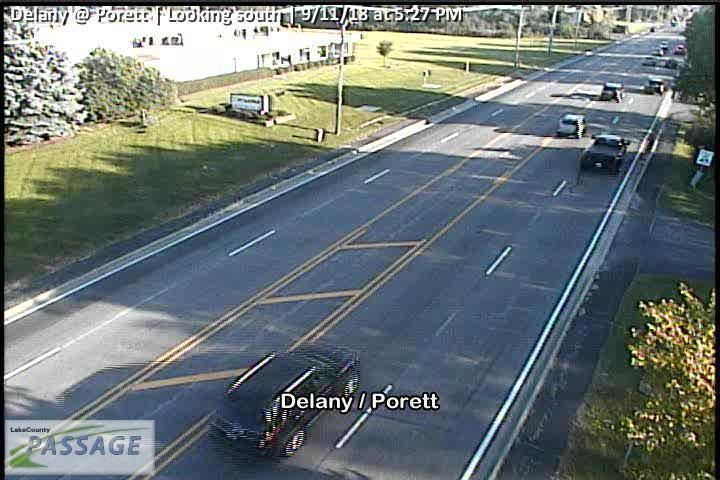SUV: (208, 340, 361, 456), (581, 134, 630, 173), (558, 113, 587, 138), (602, 81, 624, 103), (646, 78, 664, 94)
